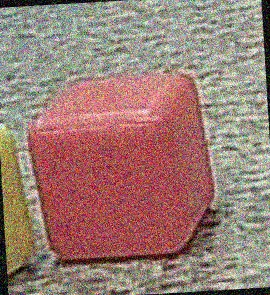orange_cube: (21, 66, 229, 265)
